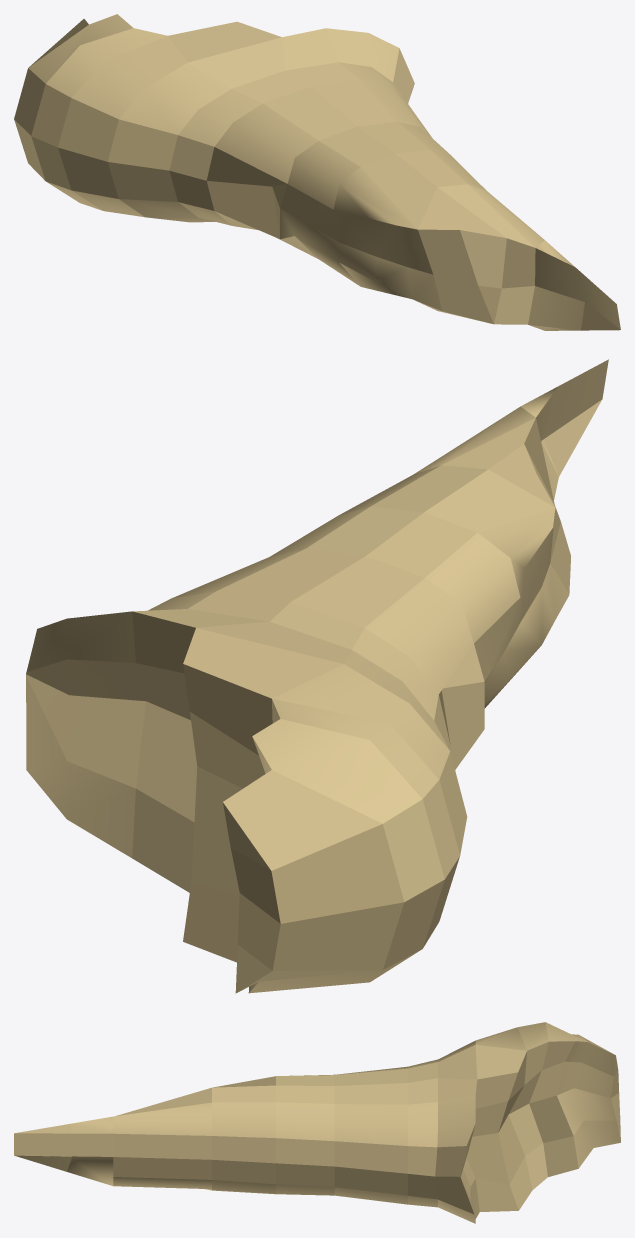
File: SmallBone.fbx
3 renders of one model, top to bottom at view 1: azimuth 30°, elevation 25°; view 2: azimuth 150°, elevation 25°; view 3: azimuth 270°, elevation 25°, orthographic. The views are drawn at different scales.
Parts seen in each view (by area): view 1: Cube; view 2: Cube; view 3: Cube.
Part boxes in pixels (<box>): Cube: <box>14,14,620,330</box>; Cube: <box>26,359,608,993</box>; Cube: <box>14,1022,620,1223</box>.
Bounding box in the file's own units: 426 × 224 × 889.
